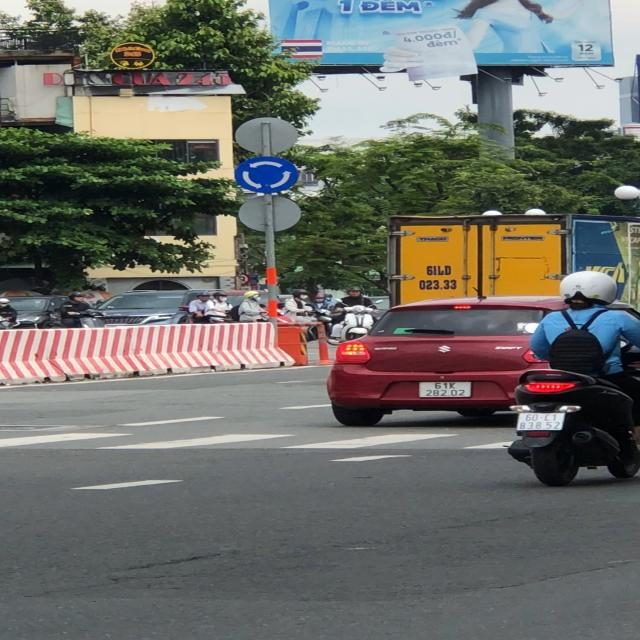Bien bao noi giao nhau chay theo vong xuyen: (227, 155, 305, 192)
